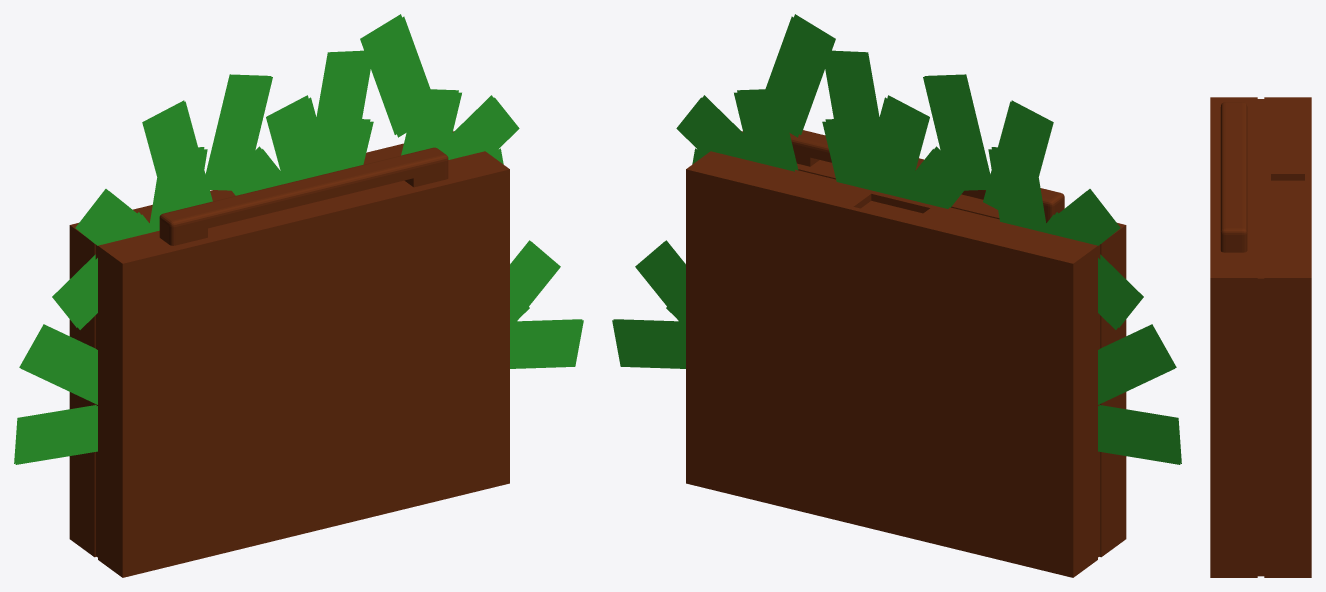
Rendered from Suitcase_Pickup.FBX.
The picture shows the model from 3 angles, left to right: view 1: azimuth 30°, elevation 25°; view 2: azimuth 150°, elevation 25°; view 3: azimuth 270°, elevation 25°; orthographic projection. The views are drawn at different scales.
Visible parts, largest first — view 1: Suitcase_Pickup; view 2: Suitcase_Pickup; view 3: Suitcase_Pickup.
Part boxes in pixels (bbox=[...]): Suitcase_Pickup: bbox=[14, 14, 583, 577]; Suitcase_Pickup: bbox=[612, 14, 1181, 577]; Suitcase_Pickup: bbox=[1210, 97, 1311, 577].
Size of the model in its own units: 179 by 28.91 by 141.
